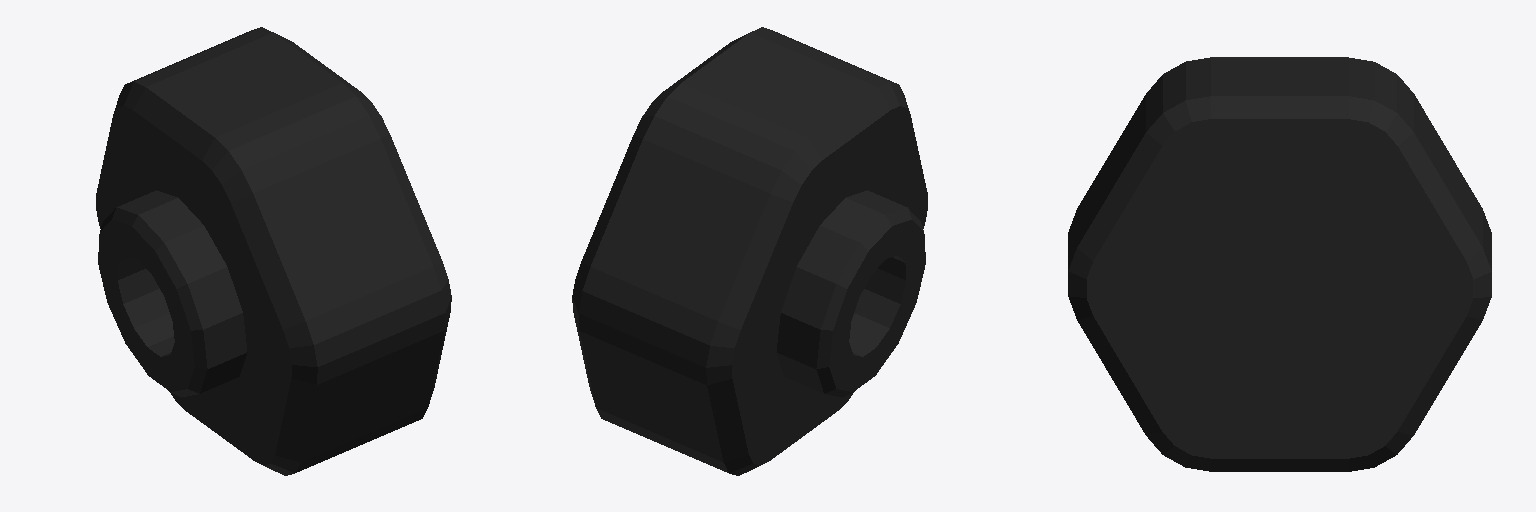
Rendered from CW1_Knob.obj.
3 renders of one model, left to right at view 1: azimuth 30°, elevation 25°; view 2: azimuth 150°, elevation 25°; view 3: azimuth 270°, elevation 25°, orthographic.
Visible parts, largest first — view 1: CW1S_MODEL; view 2: CW1S_MODEL; view 3: CW1S_MODEL.
Part boxes in pixels (x1,y1,x2,y2): CW1S_MODEL: (96,27,451,475); CW1S_MODEL: (572,27,927,475); CW1S_MODEL: (1068,57,1491,471).
Size of the model in its own units: 15.3 by 21.87 by 22.64.